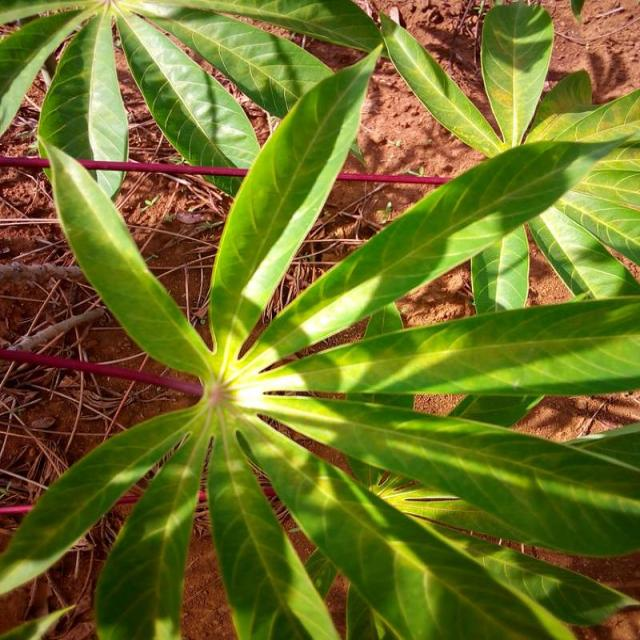cassava leaf: (2, 23, 640, 637), (208, 41, 385, 360)
